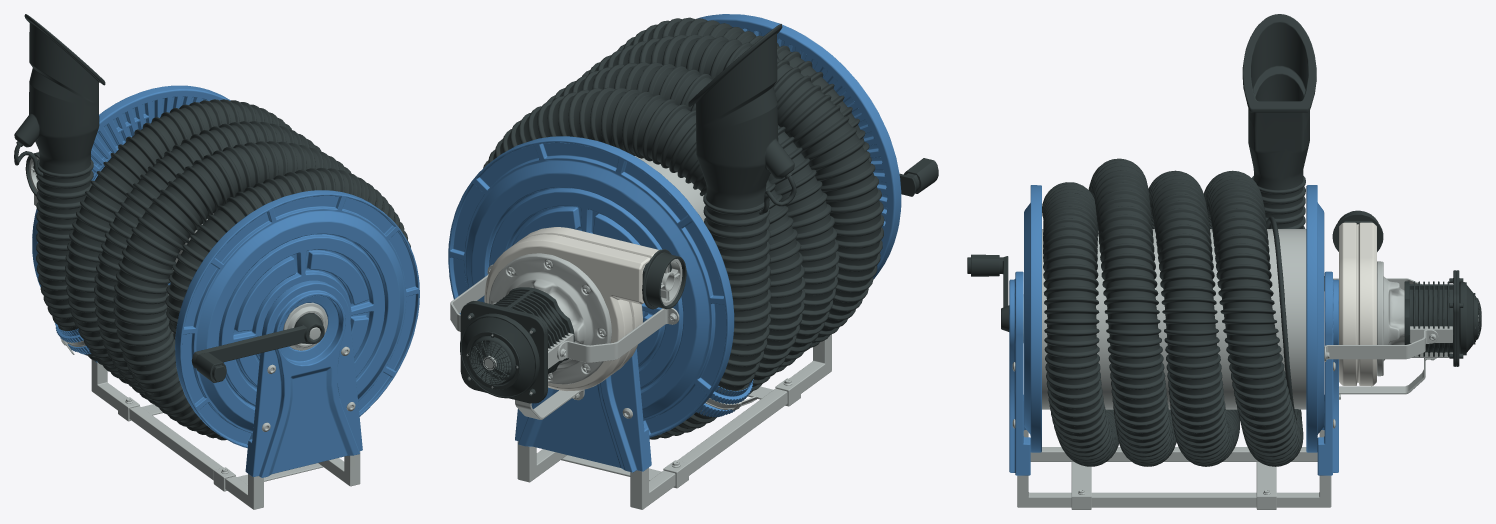
File: ventilation_exhaustExtractor_hoseReel_a01.glb
3 views of the same model, side by side, from view 1: azimuth 30°, elevation 25°; view 2: azimuth 150°, elevation 25°; view 3: azimuth 270°, elevation 25° (orthographic). The views are drawn at different scales.
Bounding box in the file's own units: 0.6971 × 0.9577 × 1.11.
